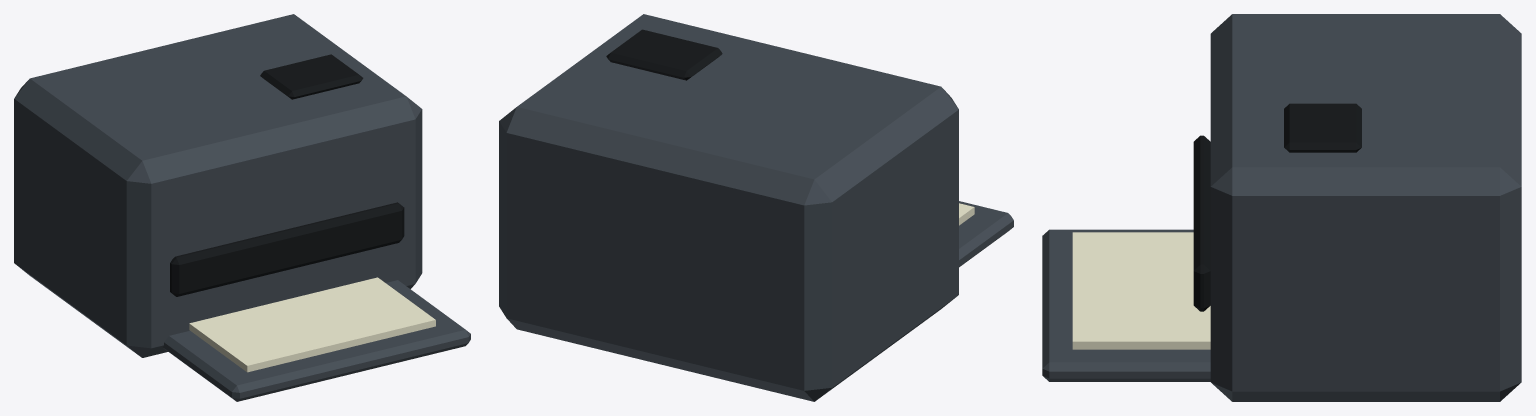
The model's file is DesktopPrinter.fbx.
3 renders of one model, left to right at view 1: azimuth 30°, elevation 25°; view 2: azimuth 150°, elevation 25°; view 3: azimuth 270°, elevation 25°, orthographic. The views are drawn at different scales.
Parts seen in each view (by area): view 1: DesktopPrinter; view 2: DesktopPrinter; view 3: DesktopPrinter.
Part boxes in pixels (bbox=[...]): DesktopPrinter: bbox=[14, 14, 470, 401]; DesktopPrinter: bbox=[499, 14, 1013, 401]; DesktopPrinter: bbox=[1042, 14, 1521, 401].
Size of the model in its own units: 47 by 31.45 by 55.5.
Materials: 1 (1 with a texture image).
